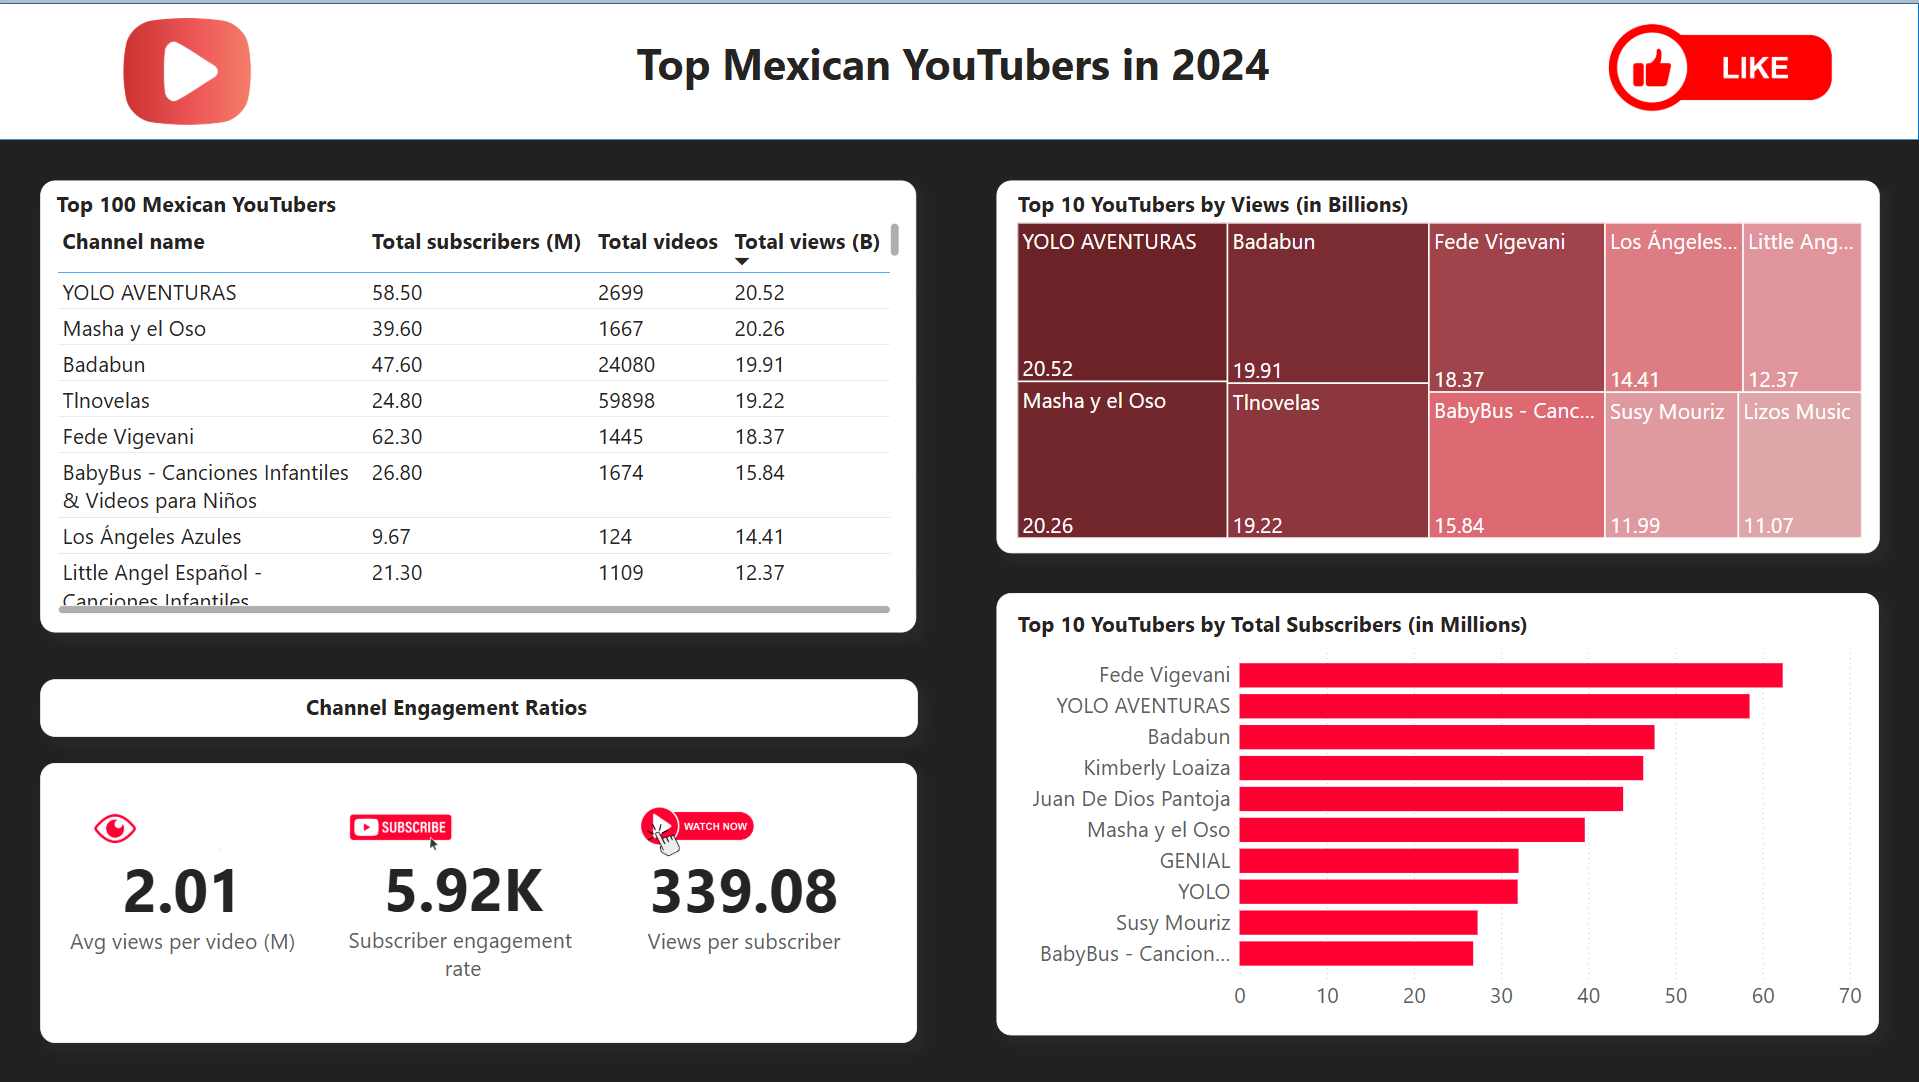

This screenshot's page, from the dashboard's own definition file:
{"tool":"powerbi","page":{"name":"Page 1","canvas":[1920,1080],"ordinal":0},"visuals":[{"type":"shape","title":"White rectangle","box":[0,0,1920,137.1],"z":0},{"type":"shape","title":"White rectangle","box":[41,760,877,280.2],"z":0,"group":"g1"},{"type":"shape","title":"White rectangle","box":[997,177,883,373],"z":1000},{"type":"card","title":"Views per subscriber","fields":{"Values":["_measures.Views per subscriber"]},"box":[614.6,773.3,260.3,248],"z":1000,"group":"g1"},{"type":"shape","title":"White rectangle","box":[997.3,590,882.7,442.7],"z":2000},{"type":"card","title":"Subscriber engagement rate","fields":{"Values":["_measures.Subscribers engagement rate"]},"box":[334.6,772.4,258.8,248],"z":2000,"group":"g1"},{"type":"shape","title":"White rectangle","box":[41.5,676.5,877.7,57.7],"z":3000},{"type":"card","title":"Avg views per video (M)","fields":{"Values":["_measures.Avg_views_per_video (M)"]},"box":[53,773.3,260.3,248],"z":3000,"group":"g1"},{"type":"textbox","title":"Channel Engagement Ratios","box":[297.6,684.2,300,43.1],"z":4000},{"type":"image","title":"Watch now icon","box":[614.6,797.8,167.1,62.4],"z":4000,"group":"g1"},{"type":"shape","title":"T","box":[41.8,177.3,876.4,451.8],"z":5000},{"type":"image","title":"View icon","box":[88,786.7,138.1,83.4],"z":5000,"group":"g1"},{"type":"tableEx","title":"Top 100 Mexican YouTubers","fields":{"Values":["mx_youtubers_data2024.channel_name","_measures.Total_subscribers (M)","_measures.Total_videos","_measures.Total_views (B)"]},"box":[52.7,186.4,852.7,430],"z":6000},{"type":"image","title":"Subscribe icon","box":[320.4,803.7,162.7,49],"z":6000,"group":"g1"},{"type":"treemap","title":"Top 10 YouTubers by Views (in Billions)","fields":{"Group":["mx_youtubers_data2024.channel_name"],"Values":["_measures.Total views (B)"]},"box":[1014,186,854,354],"z":7000},{"type":"clusteredBarChart","title":"Top 10 YouTubers by Total Subscribers (in Millions)","fields":{"Category":["mx_youtubers_data2024.channel_name"],"Y":["_measures.Total subscribers (M)"]},"box":[1014.3,605.7,854.3,411.4],"z":8000},{"type":"group","id":"g1","title":"Group 1","box":[41,760,877,281],"z":9000},{"type":"textbox","box":[611.4,25.7,697.1,85.7],"z":10000},{"type":"image","box":[0,0,370,137.1],"z":11000},{"type":"image","box":[1522.9,0,397.1,137.1],"z":12000}]}

Visuals, with their boxes in screenshot pixels (x1, y1, x2, y2), scaled from the page's 1920x1080 canvas onto the 1919x1082 screenshot:
"White rectangle" shape: [left=0, top=0, right=1918, bottom=137]
"White rectangle" shape: [left=41, top=761, right=918, bottom=1042]
"White rectangle" shape: [left=996, top=177, right=1879, bottom=551]
"Views per subscriber" card: [left=614, top=775, right=874, bottom=1023]
"White rectangle" shape: [left=997, top=591, right=1879, bottom=1035]
"Subscriber engagement rate" card: [left=334, top=774, right=593, bottom=1022]
"White rectangle" shape: [left=41, top=678, right=919, bottom=736]
"Avg views per video (M)" card: [left=53, top=775, right=313, bottom=1023]
"Channel Engagement Ratios" textbox: [left=297, top=685, right=597, bottom=729]
"Watch now icon" image: [left=614, top=799, right=781, bottom=862]
"T" shape: [left=42, top=178, right=918, bottom=630]
"View icon" image: [left=88, top=788, right=226, bottom=872]
"Top 100 Mexican YouTubers" tableEx: [left=53, top=187, right=905, bottom=618]
"Subscribe icon" image: [left=320, top=805, right=483, bottom=854]
"Top 10 YouTubers by Views (in Billions)" treemap: [left=1013, top=186, right=1867, bottom=541]
"Top 10 YouTubers by Total Subscribers (in Millions)" clusteredBarChart: [left=1014, top=607, right=1868, bottom=1019]
"Group 1" group: [left=41, top=761, right=918, bottom=1043]
textbox: [left=611, top=26, right=1308, bottom=112]
image: [left=0, top=0, right=370, bottom=137]
image: [left=1522, top=0, right=1918, bottom=137]
